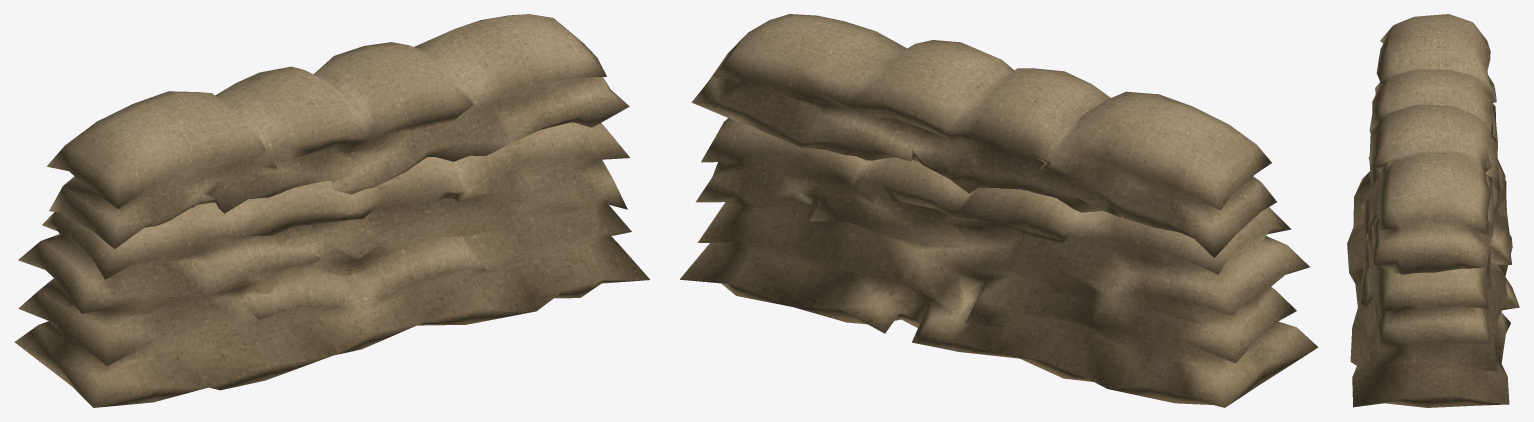
3 renders of one model, left to right at view 1: azimuth 30°, elevation 25°; view 2: azimuth 150°, elevation 25°; view 3: azimuth 270°, elevation 25°, orthographic. The views are drawn at different scales.
Visible parts, largest first — view 1: Object_2; view 2: Object_2; view 3: Object_2.
Boxes of the visible parts, bbox=[...] form: Object_2: bbox=[14, 14, 649, 407]; Object_2: bbox=[680, 14, 1318, 407]; Object_2: bbox=[1347, 14, 1519, 407].
Size of the model in its own units: 2.92 by 1.31 by 0.9394.
1 material, 1 textured.
